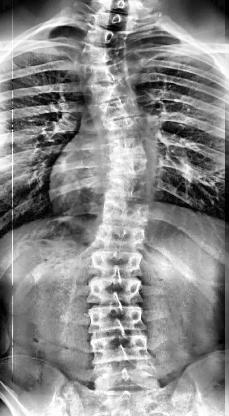Vertebrae: (92, 362, 164, 394), (88, 332, 152, 366), (85, 272, 145, 306), (92, 134, 158, 164), (86, 304, 148, 335), (85, 94, 144, 124), (76, 56, 130, 88), (89, 246, 146, 276), (92, 116, 152, 144), (98, 198, 154, 228), (80, 78, 136, 106), (92, 222, 148, 250), (101, 174, 155, 202), (77, 40, 126, 70), (100, 156, 156, 180), (84, 23, 130, 51)
